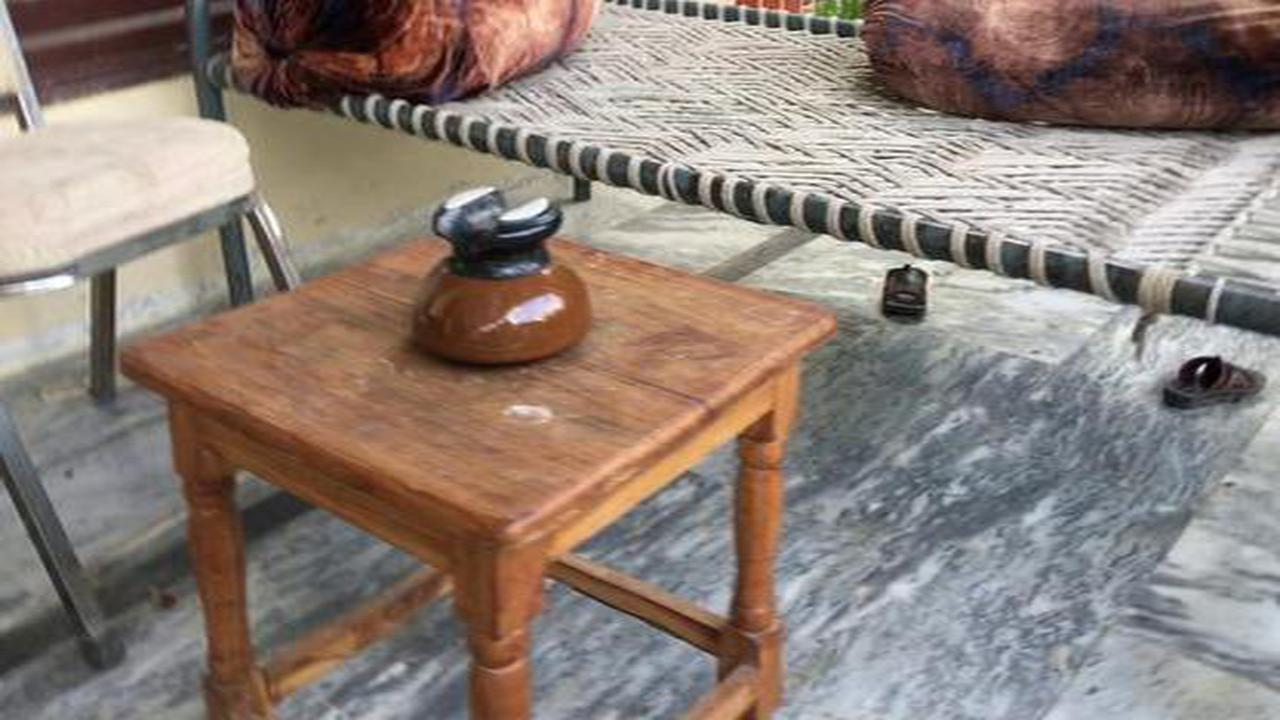insulator_pin: (394, 172, 607, 376)
